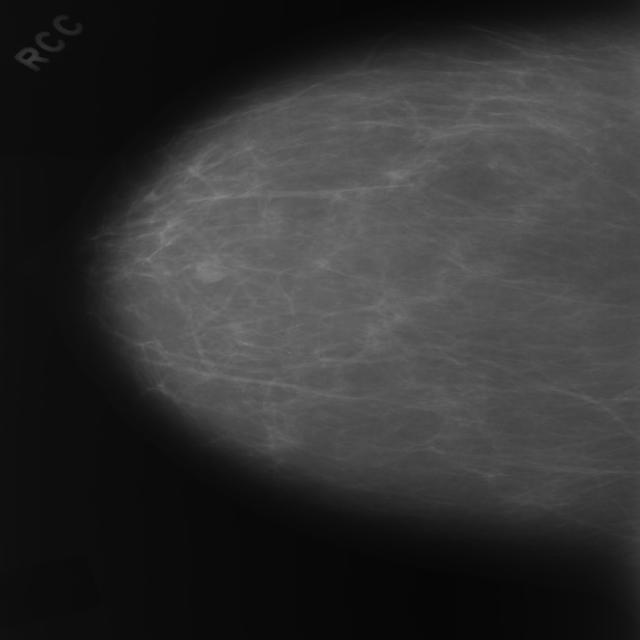tumour: (193, 255, 226, 283)
